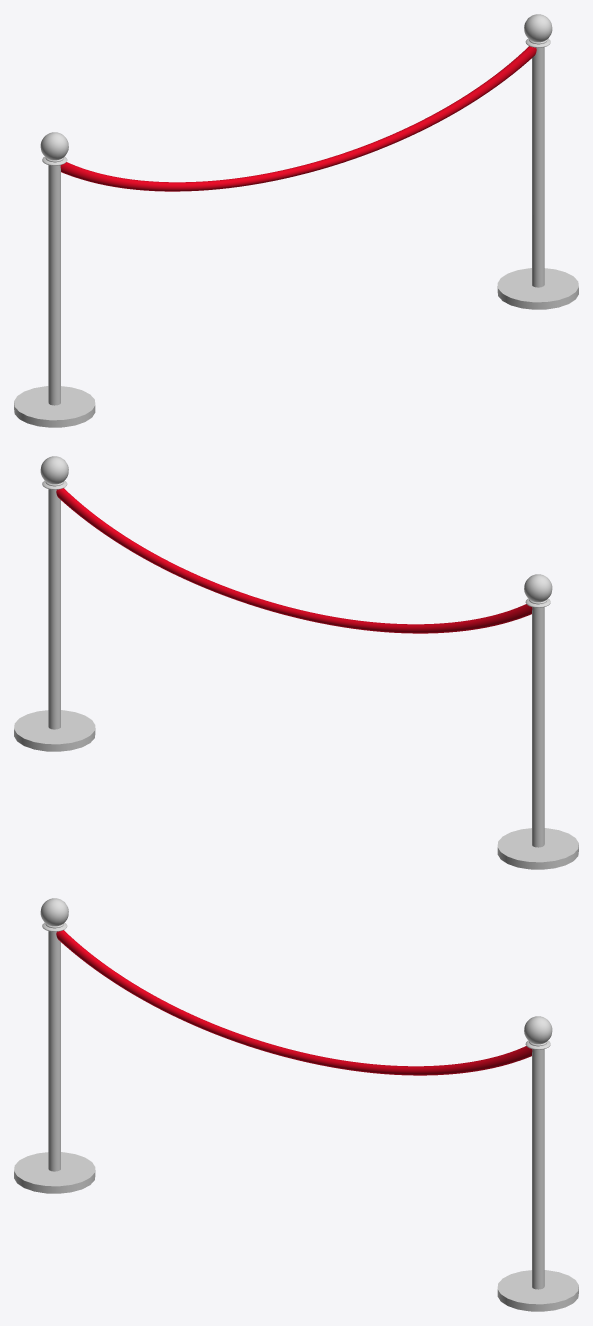
File: stanchion  1.fbx
3 renders of one model, top to bottom at view 1: azimuth 30°, elevation 25°; view 2: azimuth 150°, elevation 25°; view 3: azimuth 330°, elevation 25°, orthographic.
Visible parts, largest first — view 1: Stanchion B; view 2: Stanchion B; view 3: Stanchion B.
Part boxes in pixels (x1,y1,x2,y2): Stanchion B: (14, 14, 578, 427); Stanchion B: (14, 456, 578, 869); Stanchion B: (14, 898, 578, 1311).
Size of the model in its own units: 2227 by 1063 by 285.
